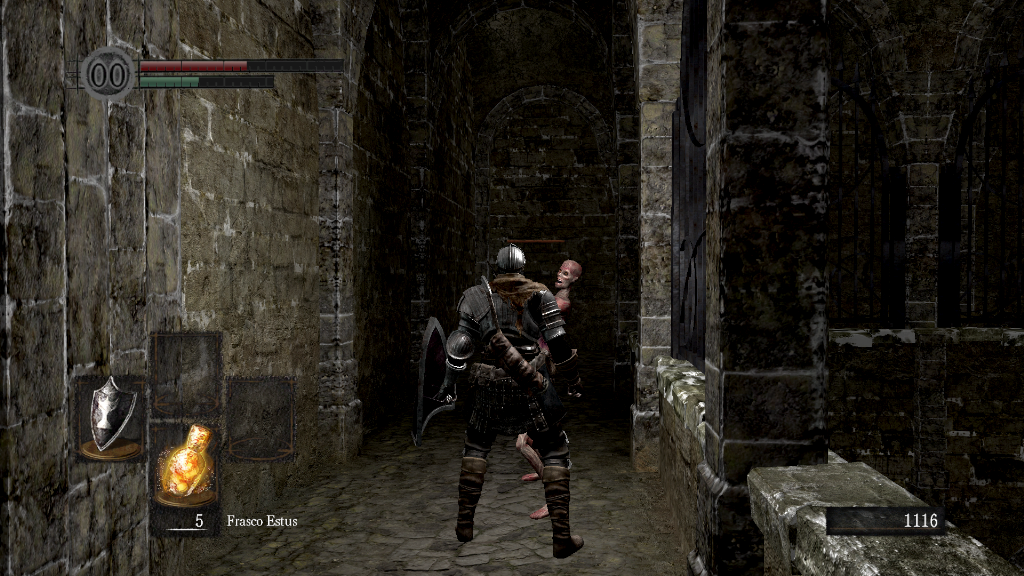health: (138, 58, 343, 71)
hollow: (519, 259, 587, 522)
humanity: (80, 45, 136, 102)
player: (406, 243, 588, 558)
souls: (825, 506, 945, 536)
stamina: (138, 74, 274, 88)
